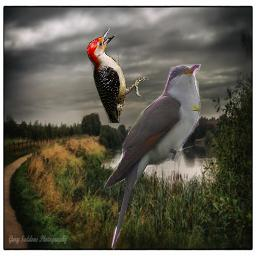Cuckoo: (103, 64, 201, 252)
Woodpecker: (87, 28, 149, 123)
